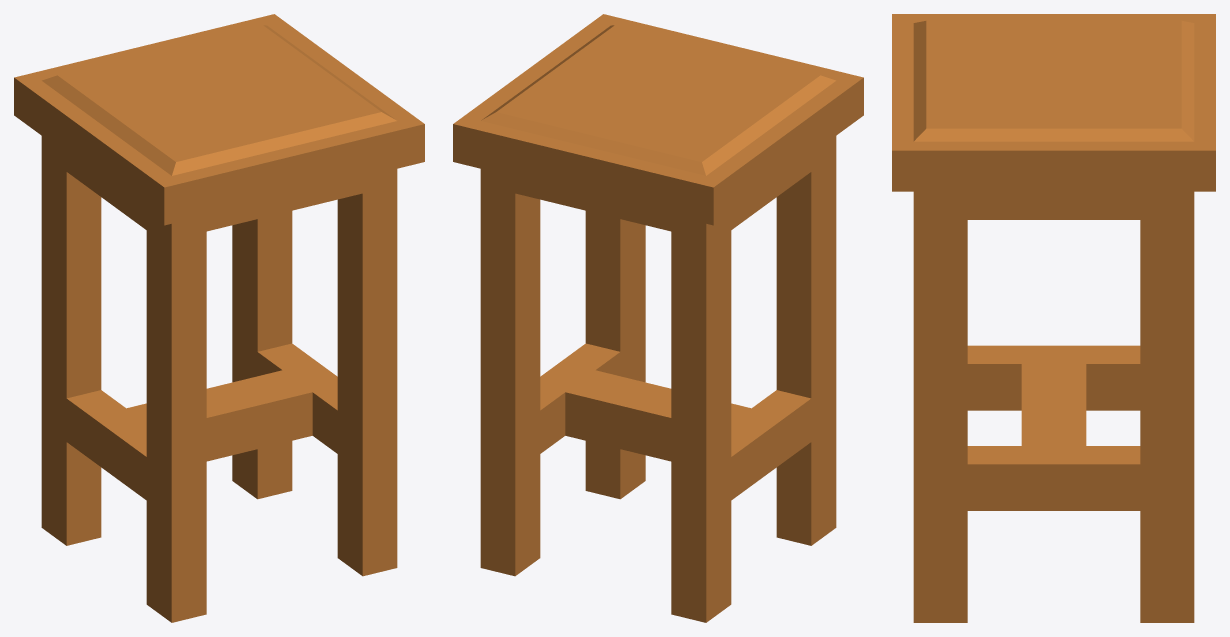
The model's file is Kursi.obj.
3 views of the same model, side by side, from view 1: azimuth 30°, elevation 25°; view 2: azimuth 150°, elevation 25°; view 3: azimuth 270°, elevation 25° (orthographic). The views are drawn at different scales.
Parts seen in each view (by area): view 1: Cube; view 2: Cube; view 3: Cube.
Boxes of the visible parts, left/top/right/bottom form: Cube: left=14, top=14, right=424, bottom=622; Cube: left=453, top=14, right=863, bottom=622; Cube: left=892, top=14, right=1215, bottom=622.
Size of the model in its own units: 3.75 by 6.25 by 3.75.
